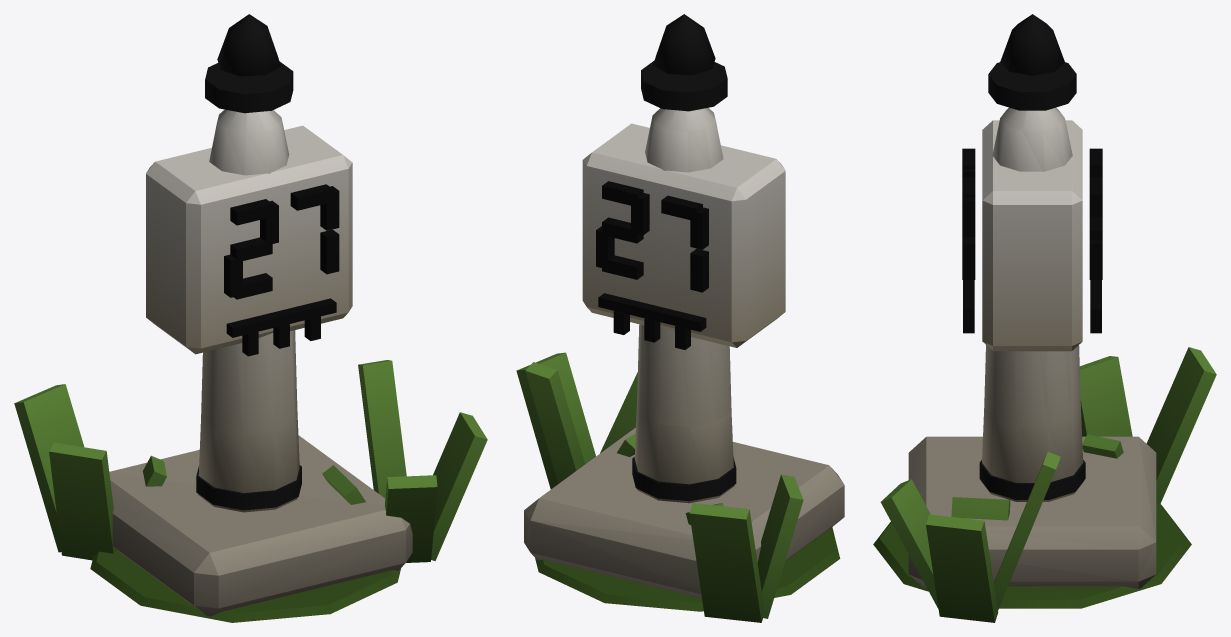
The model's file is mile-post.glb.
The picture shows the model from 3 angles, left to right: view 1: azimuth 30°, elevation 25°; view 2: azimuth 150°, elevation 25°; view 3: azimuth 270°, elevation 25°; orthographic projection.
Visible parts, largest first — view 1: mile_post; view 2: mile_post; view 3: mile_post.
Part boxes in pixels (x1,y1,x2,y2): mile_post: [14, 14, 487, 622]; mile_post: [516, 14, 844, 622]; mile_post: [873, 14, 1216, 622].
Size of the model in its own units: 0.6885 by 1.01 by 0.583.
